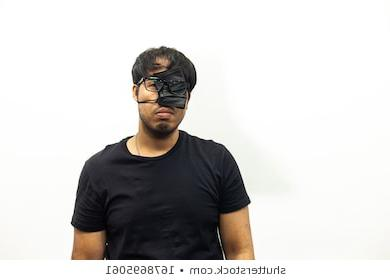mask_weared_incorrect: (137, 71, 186, 135)
